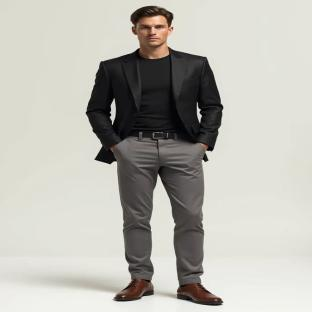Human: (86, 6, 223, 304)
